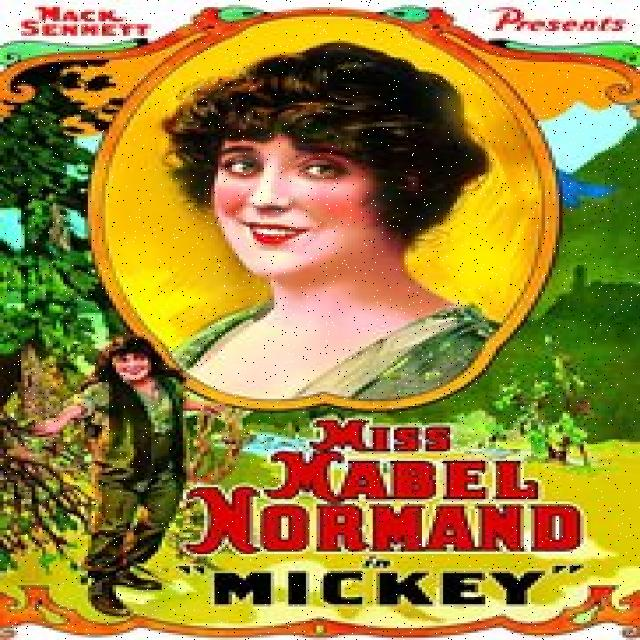movie-judul: (192, 414, 586, 608)
picture: (153, 41, 505, 402)
